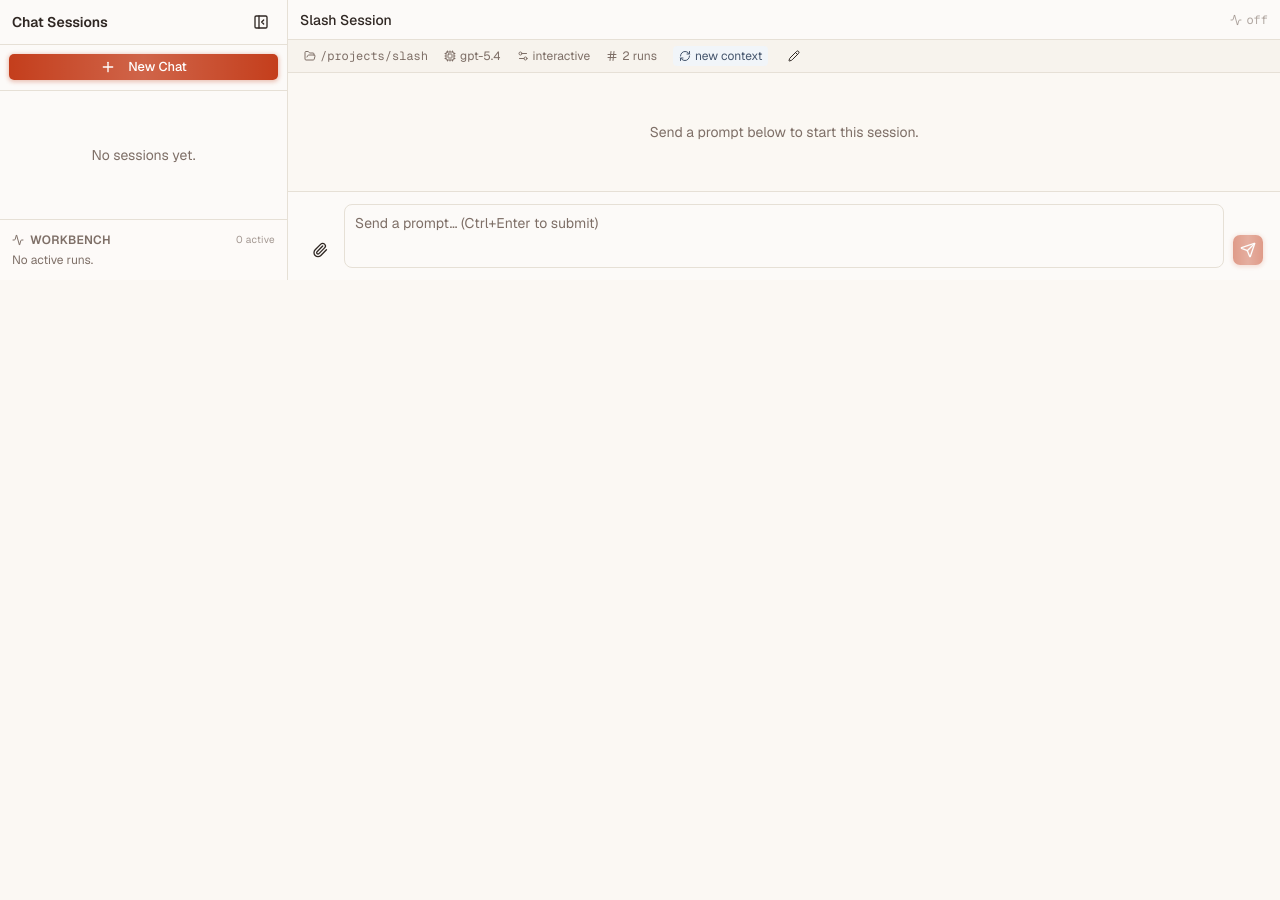
ChatShell — slash command integration › opens the skills dialog when /skills is submitted
Step 1. Type "/skills" into the text box labelled "prompt" → {"x": 784, "y": 236}, box [344,204,1224,268]
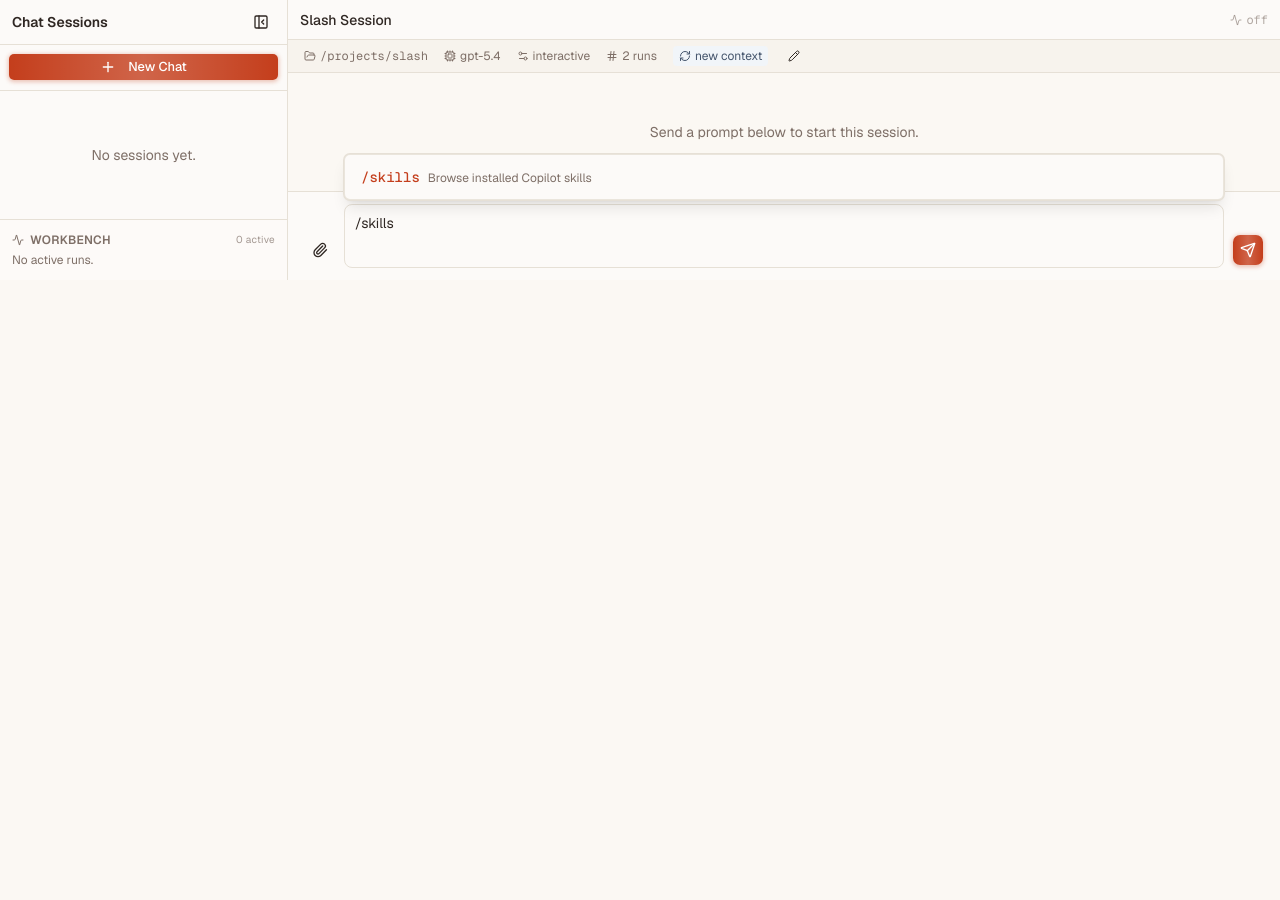
Step 2. Submit the form named "Prompt", box [288,191,1279,280]
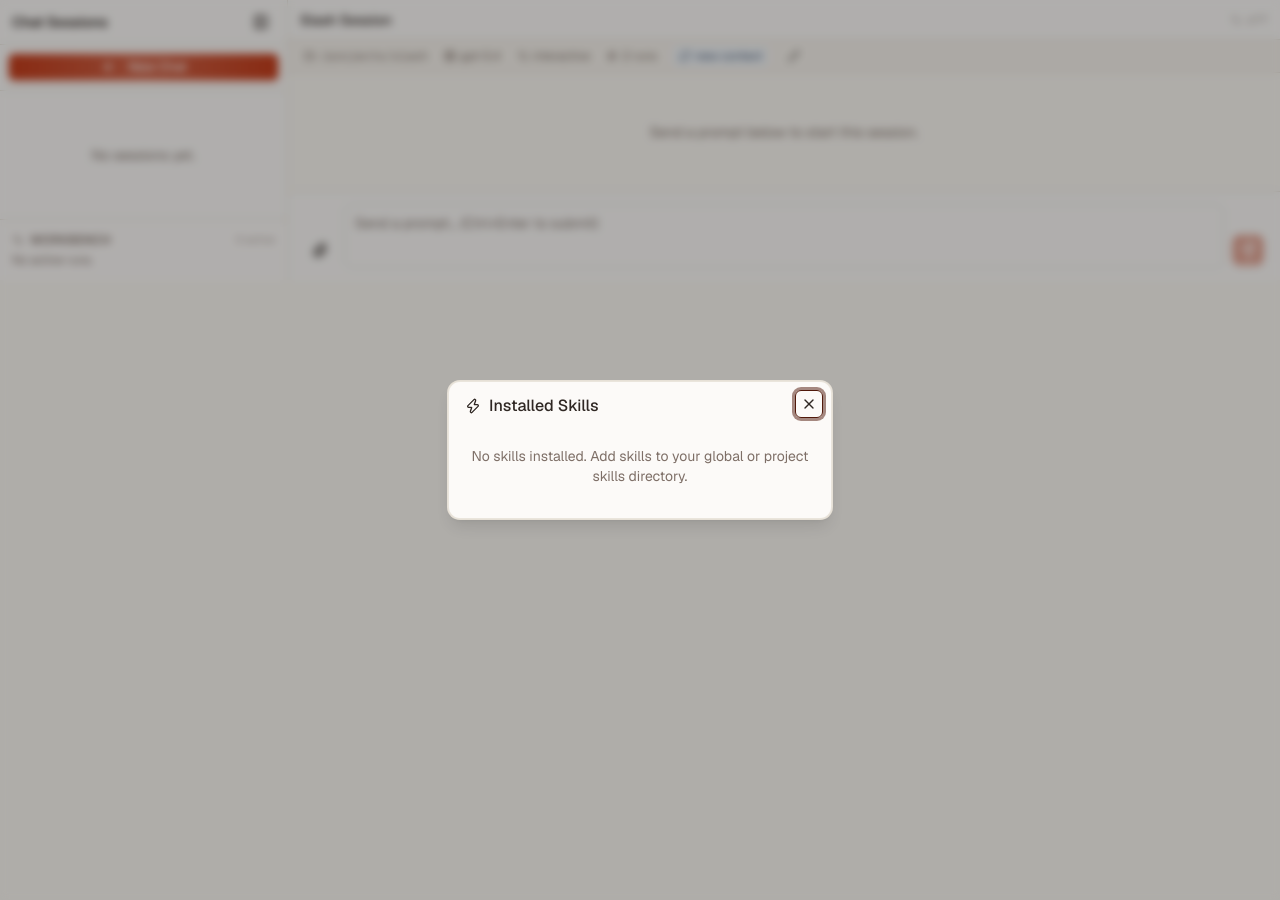
expect the heading "Installed Skills" is shown: met, box [465,395,599,416]
